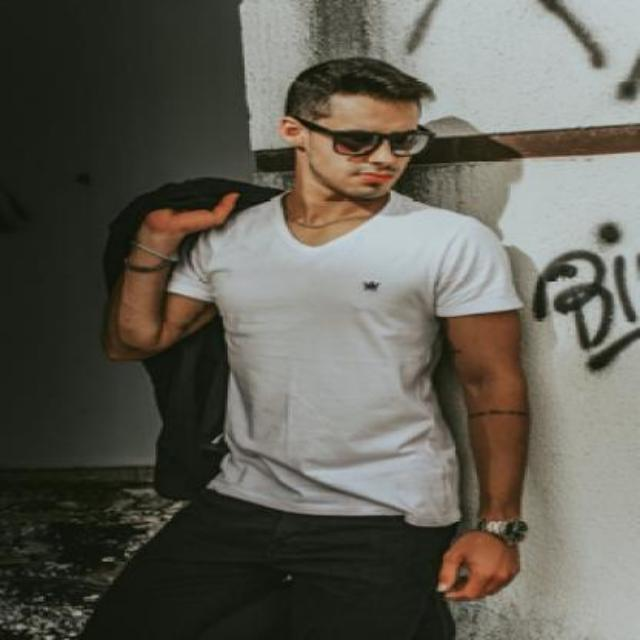glasses: (290, 114, 436, 158)
